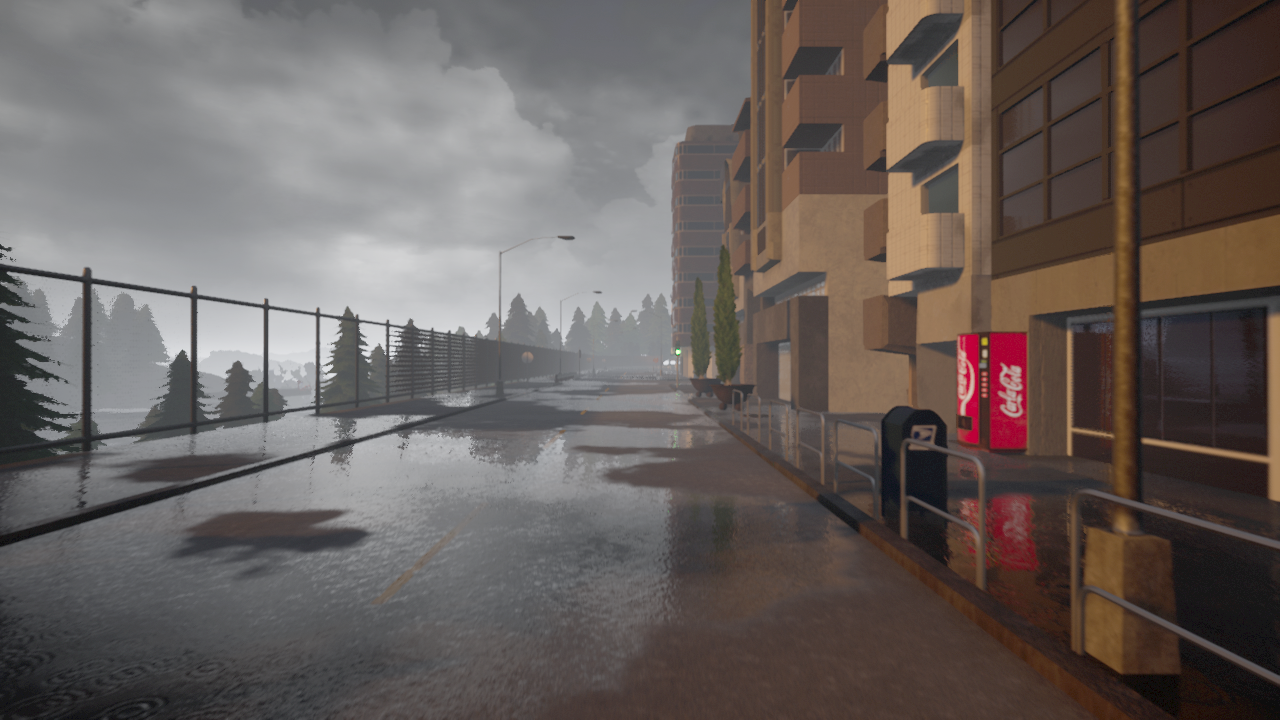green: (674, 339, 681, 357)
